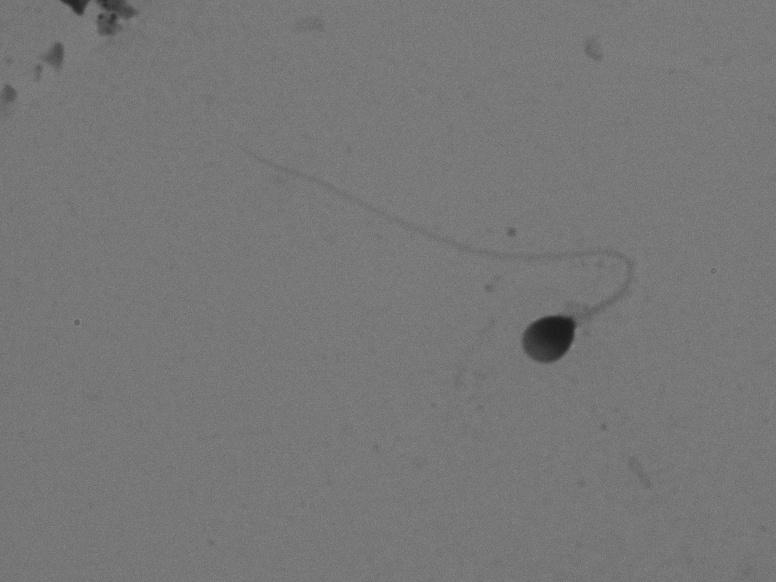Normal: (209, 118, 700, 376)
